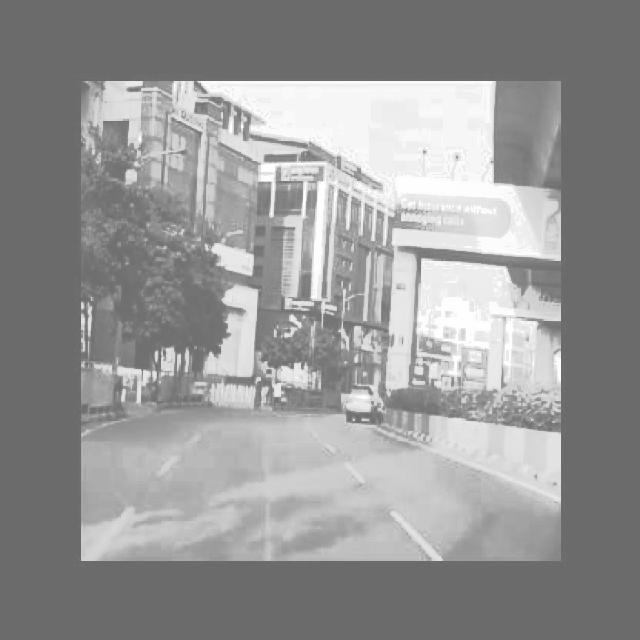Car: (332, 376, 390, 426)
